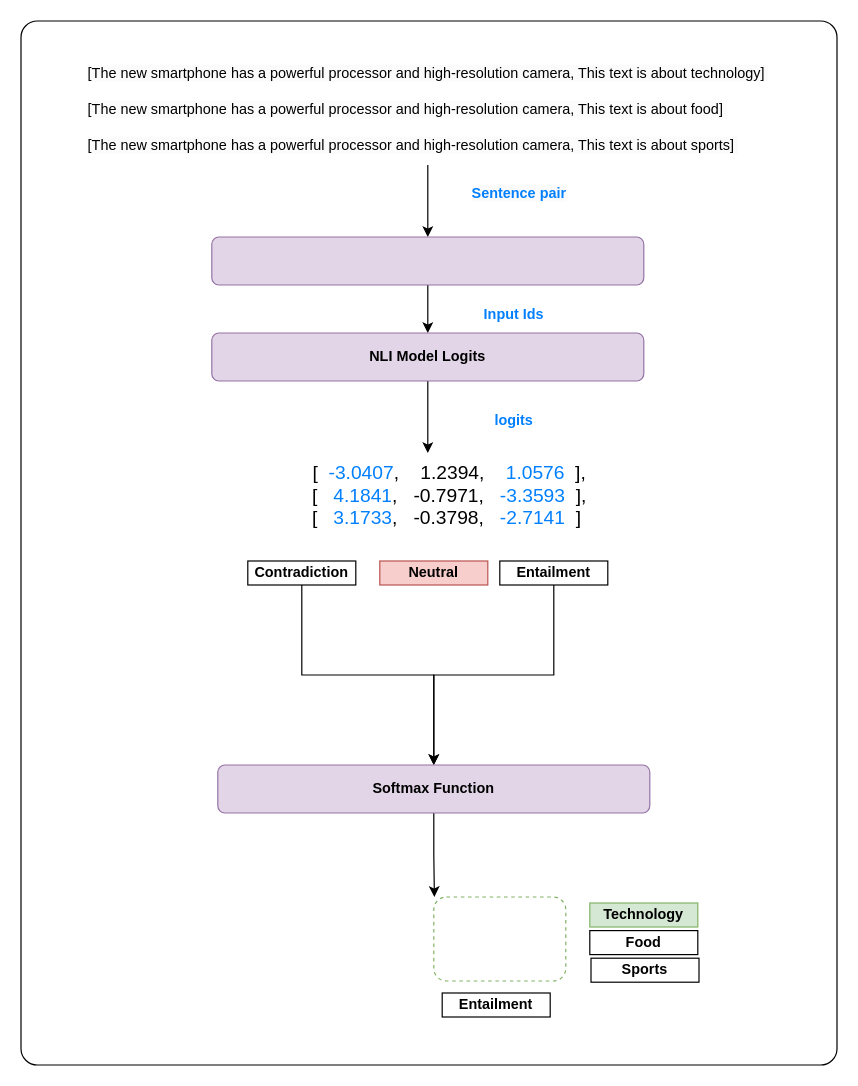
Image size: 858x1086. Some labels were removed from this diagram. The shapes that lost their labels are listed below. From the top down, each one's centre as x and y in pixels, then its label:
the point at 427,260: Tokenization
the point at 499,938: [1.6330e-02, 9.8367e-01 ], [9.9947e-01, 5.2929e-04 ], [9.9723e-01, 2.7665e-03 ]
